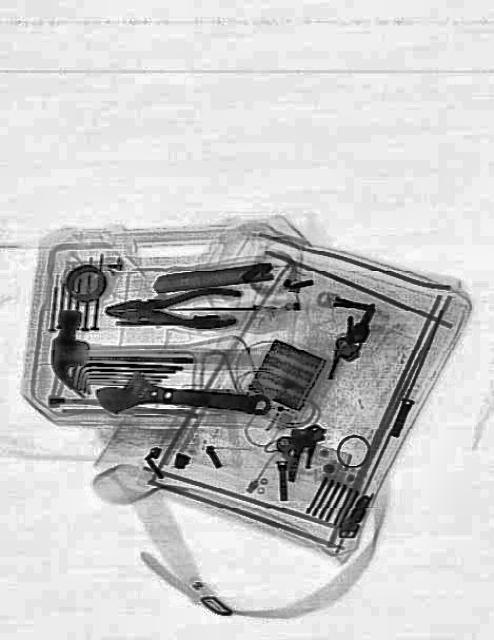Pliers: (105, 284, 241, 328)
Wrench: (92, 368, 270, 424)
